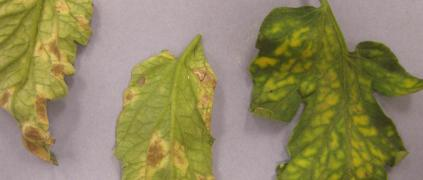Tomato mold leaf: (247, 0, 423, 180), (111, 45, 232, 180), (0, 0, 93, 158)
